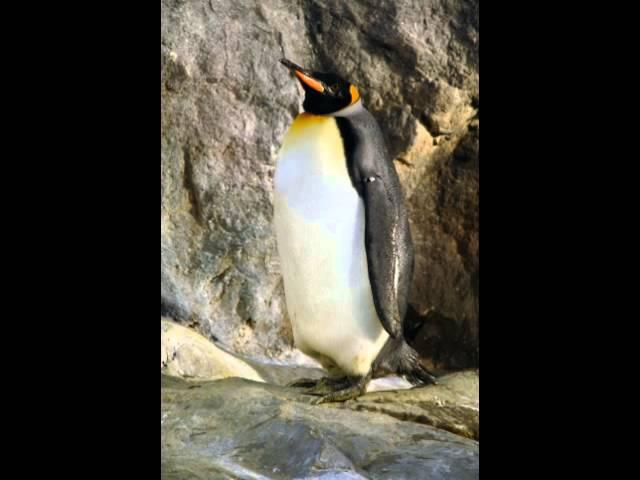king: (238, 39, 452, 404)
